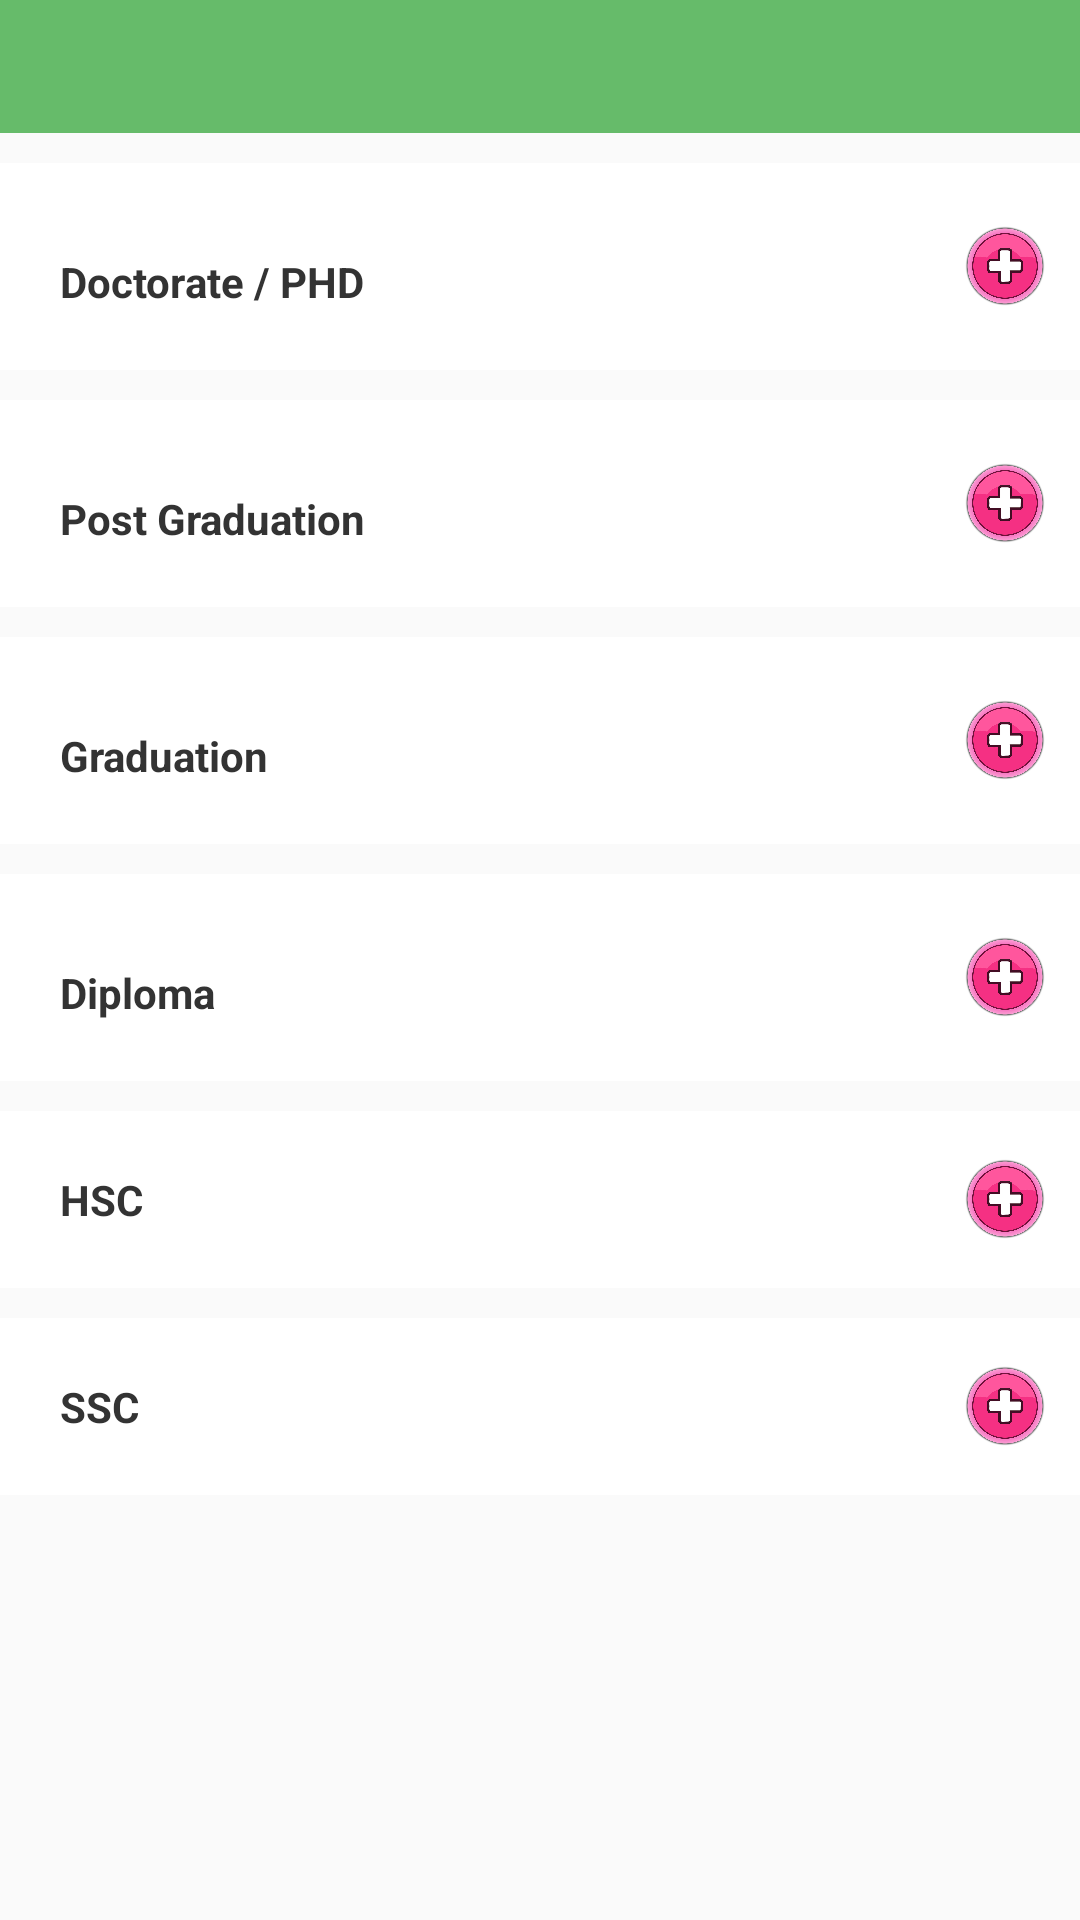

Where icons sit on this 1080px x 1920px app screen, as (x1, y1, x2, y2):
plus: (966, 227, 1044, 305), (966, 464, 1044, 542), (966, 701, 1044, 779), (966, 938, 1044, 1016), (966, 1160, 1044, 1238), (966, 1367, 1044, 1445)
